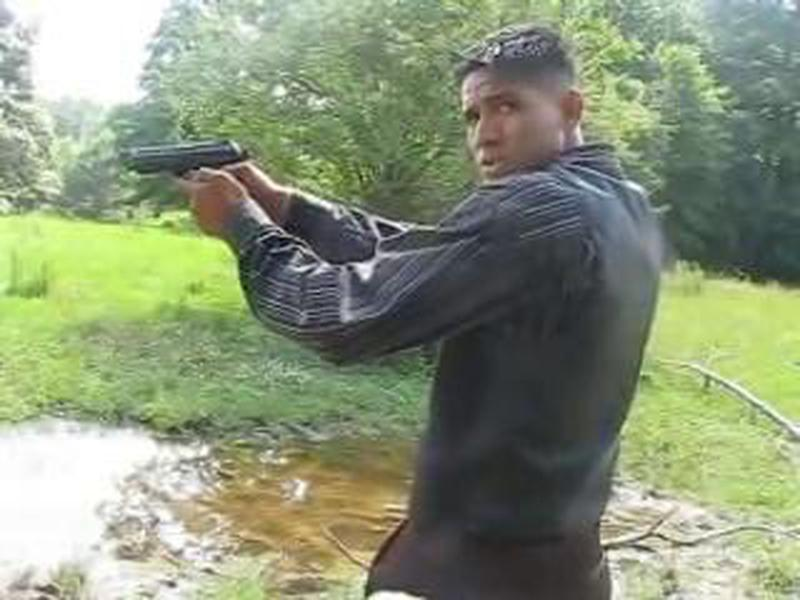Pistola: (116, 130, 258, 176)
